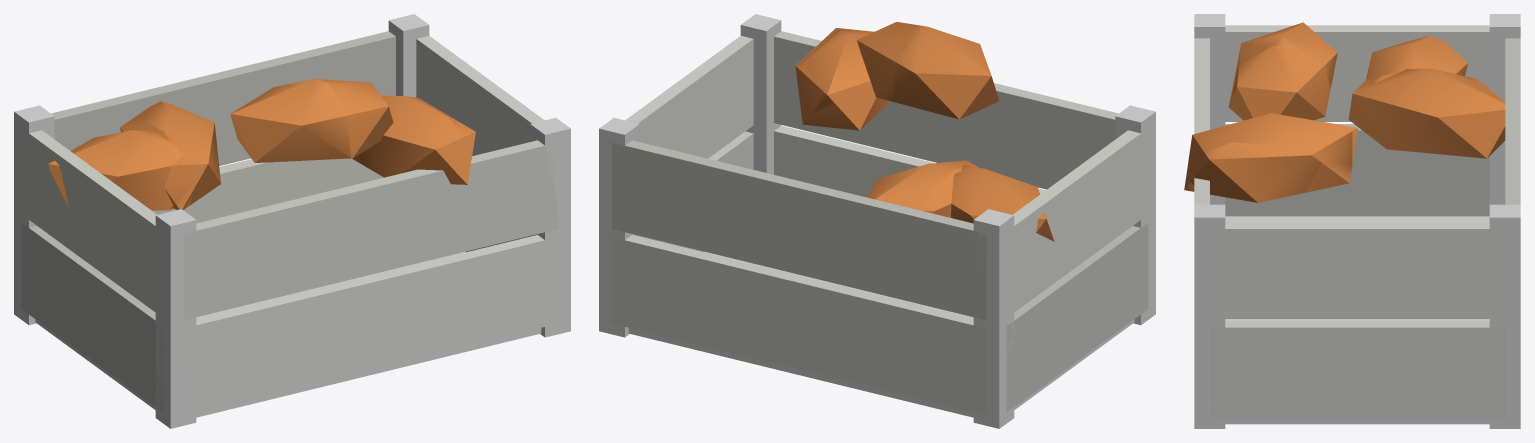
The model's file is Kit_RealBread_Crate_Fractured.fbx.
The picture shows the model from 3 angles, left to right: view 1: azimuth 30°, elevation 25°; view 2: azimuth 150°, elevation 25°; view 3: azimuth 270°, elevation 25°; orthographic projection. The views are drawn at different scales.
Parts seen in each view (by area): view 1: Kit_RealBread_Crate_frag_03, Kit_RealBread_Crate_frag_08, Kit_RealBread_Crate_frag_07, Kit_RealBread_Crate_frag_04, Kit_RealBread_Crate_frag_01, Kit_RealBread_Crate_frag_02, Kit_RealBread_Crate_frag_06, Kit_RealBread_Crate_frag_05; view 2: Kit_RealBread_Crate_frag_04, Kit_RealBread_Crate_frag_02, Kit_RealBread_Crate_frag_05, Kit_RealBread_Crate_frag_06, Kit_RealBread_Crate_frag_03, Kit_RealBread_Crate_frag_01, Kit_RealBread_Crate_frag_07, Kit_RealBread_Crate_frag_08; view 3: Kit_RealBread_Crate_frag_01, Kit_RealBread_Crate_frag_02, Kit_RealBread_Crate_frag_04, Kit_RealBread_Crate_frag_08, Kit_RealBread_Crate_frag_05, Kit_RealBread_Crate_frag_03, Kit_RealBread_Crate_frag_07, Kit_RealBread_Crate_frag_06.
Boxes of the visible parts, bbox=[...] form: Kit_RealBread_Crate_frag_03: bbox=[94, 178, 267, 428]; Kit_RealBread_Crate_frag_08: bbox=[324, 79, 469, 376]; Kit_RealBread_Crate_frag_07: bbox=[230, 79, 367, 400]; Kit_RealBread_Crate_frag_04: bbox=[14, 99, 191, 370]; Kit_RealBread_Crate_frag_01: bbox=[416, 84, 570, 352]; Kit_RealBread_Crate_frag_02: bbox=[312, 14, 494, 274]; Kit_RealBread_Crate_frag_06: bbox=[212, 50, 375, 298]; Kit_RealBread_Crate_frag_05: bbox=[111, 74, 275, 317]; Kit_RealBread_Crate_frag_04: bbox=[902, 165, 1079, 428]; Kit_RealBread_Crate_frag_02: bbox=[599, 80, 708, 352]; Kit_RealBread_Crate_frag_05: bbox=[802, 160, 978, 400]; Kit_RealBread_Crate_frag_06: bbox=[702, 91, 833, 376]; Kit_RealBread_Crate_frag_03: bbox=[1051, 99, 1155, 366]; Kit_RealBread_Crate_frag_01: bbox=[680, 14, 857, 274]; Kit_RealBread_Crate_frag_07: bbox=[893, 25, 1058, 317]; Kit_RealBread_Crate_frag_08: bbox=[794, 22, 950, 298]; Kit_RealBread_Crate_frag_01: bbox=[1191, 142, 1352, 428]; Kit_RealBread_Crate_frag_02: bbox=[1352, 176, 1520, 428]; Kit_RealBread_Crate_frag_04: bbox=[1352, 14, 1520, 222]; Kit_RealBread_Crate_frag_08: bbox=[1184, 45, 1352, 320]; Kit_RealBread_Crate_frag_05: bbox=[1350, 68, 1520, 158]; Kit_RealBread_Crate_frag_03: bbox=[1194, 14, 1352, 222]; Kit_RealBread_Crate_frag_07: bbox=[1194, 22, 1337, 125]; Kit_RealBread_Crate_frag_06: bbox=[1352, 125, 1520, 320].
Size of what is drawn, in the model's own units: 0.6301 by 0.405 by 0.4329.
